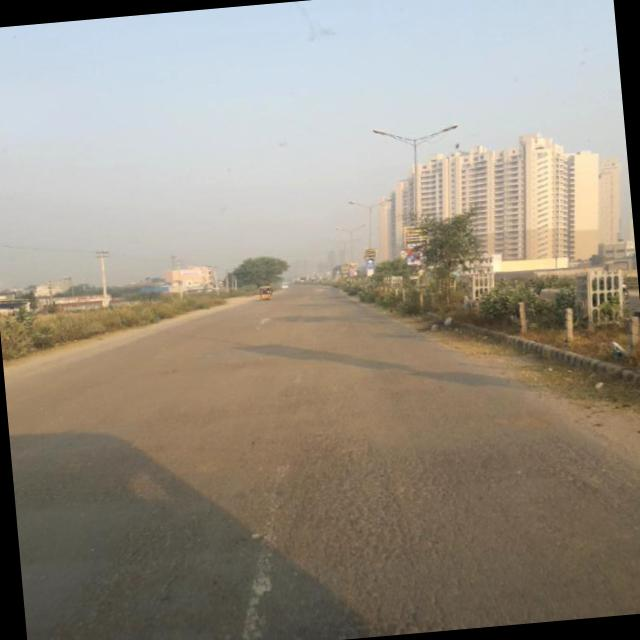crack: (96, 388, 628, 629)
